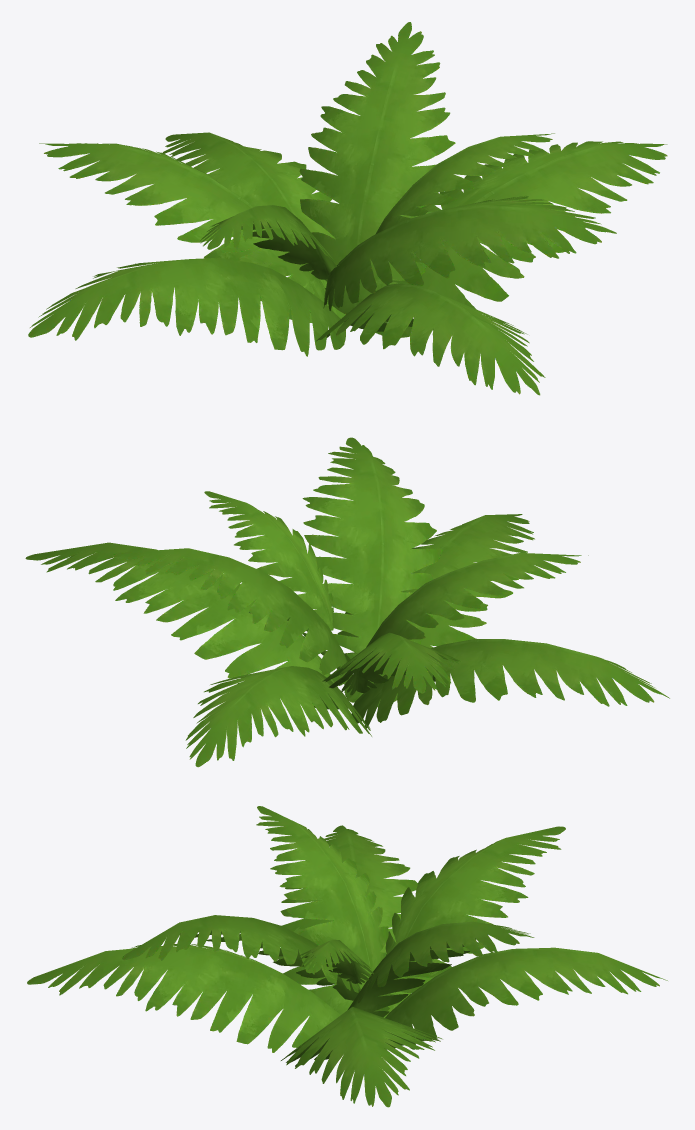
File: Fern_1.gltf
The picture shows the model from 3 angles, top to bottom: view 1: azimuth 30°, elevation 25°; view 2: azimuth 150°, elevation 25°; view 3: azimuth 270°, elevation 25°; orthographic projection. The views are drawn at different scales.
Parts seen in each view (by area): view 1: Fern_1; view 2: Fern_1; view 3: Fern_1.
Boxes of the visible parts, x1=… form: Fern_1: x1=28, y1=22, x2=667, y2=395; Fern_1: x1=25, y1=437, x2=669, y2=767; Fern_1: x1=27, y1=806, x2=667, y2=1107.
Size of the model in its own units: 2.83 by 0.8404 by 2.65.
1 material, 1 textured.
